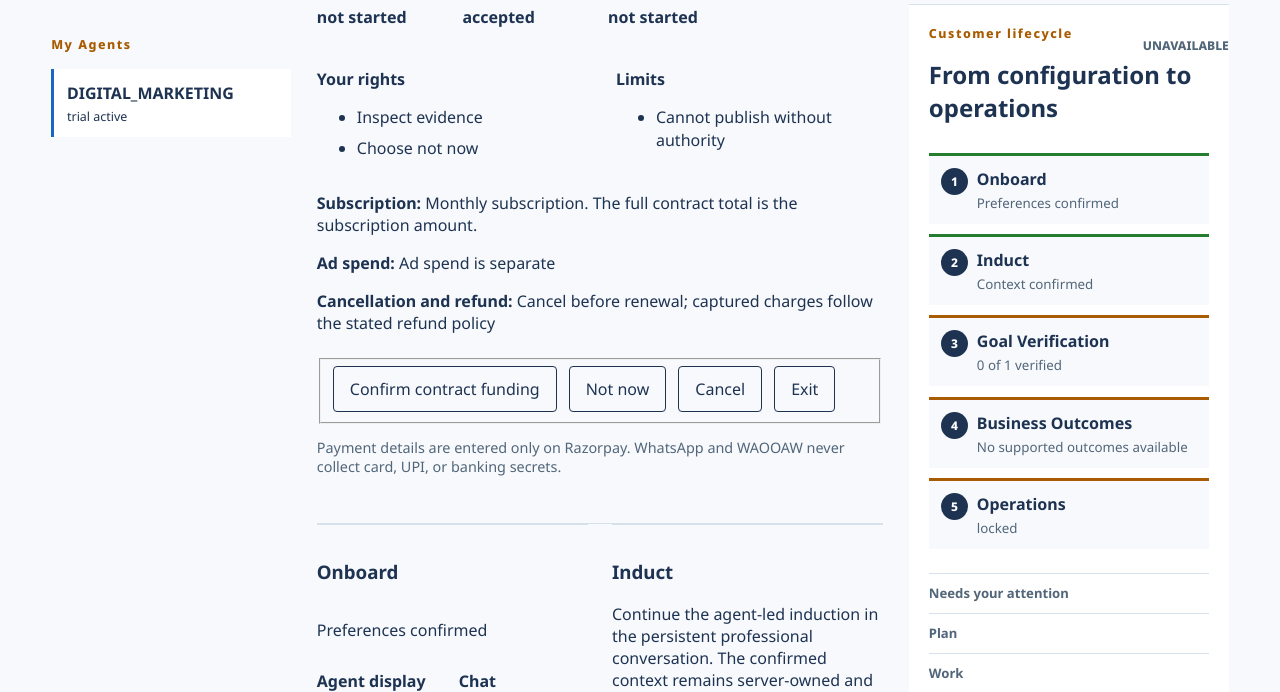
RelationshipWorkspace › keeps failed payment explicitly unresolved
(page scrolled)
Click the button "Confirm contract funding". click: (445, 389)
box: x1=333 y1=366 x2=557 y2=412
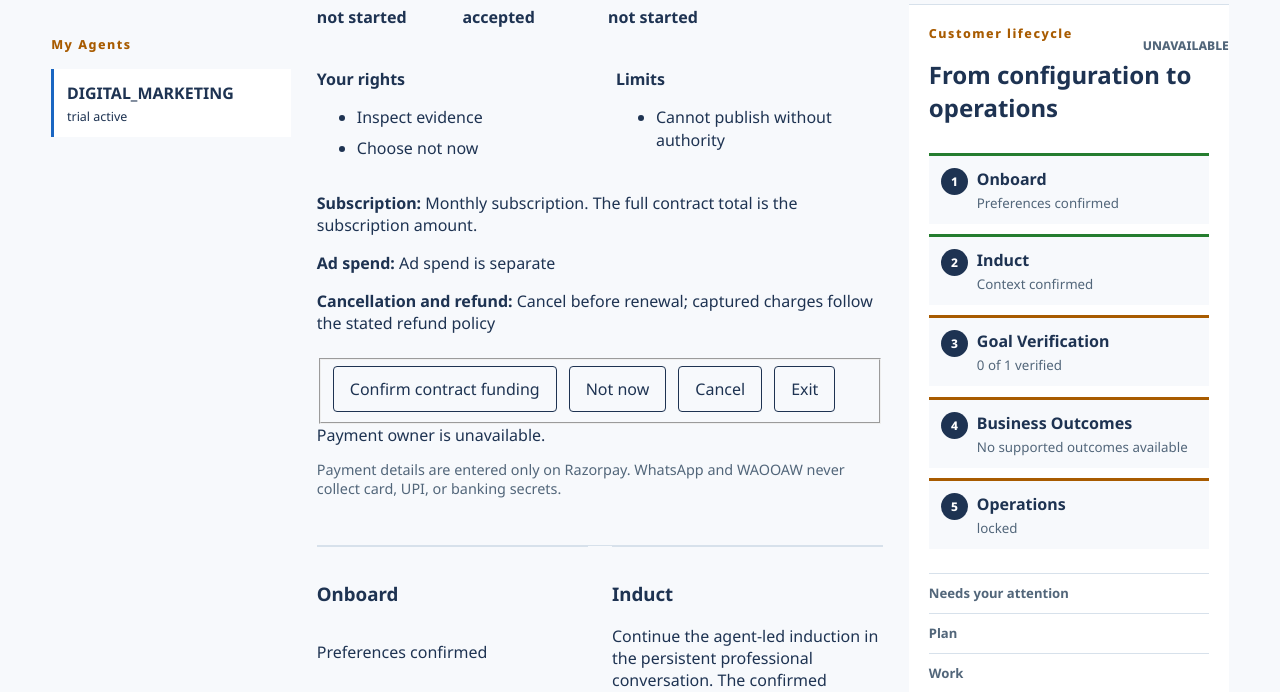
Check: the text "Payment owner is unavailable." is shown, box x1=317 y1=424 x2=545 y2=446
